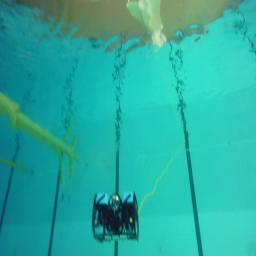front: (91, 190, 139, 243)
